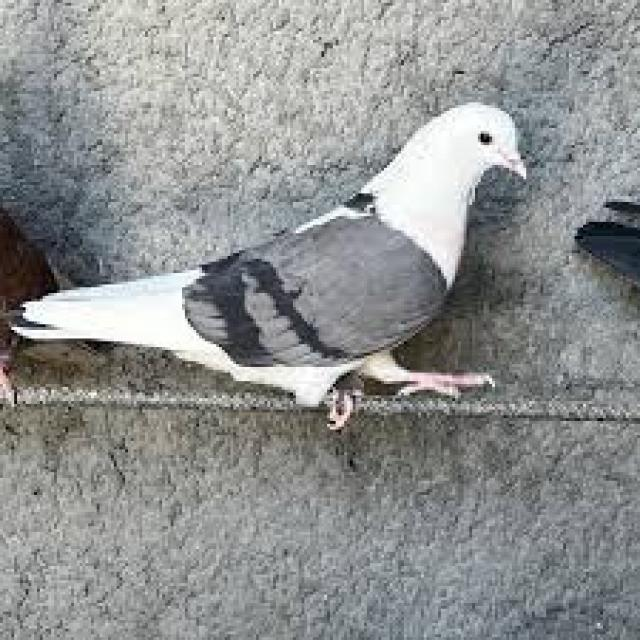bird: (12, 96, 536, 431)
